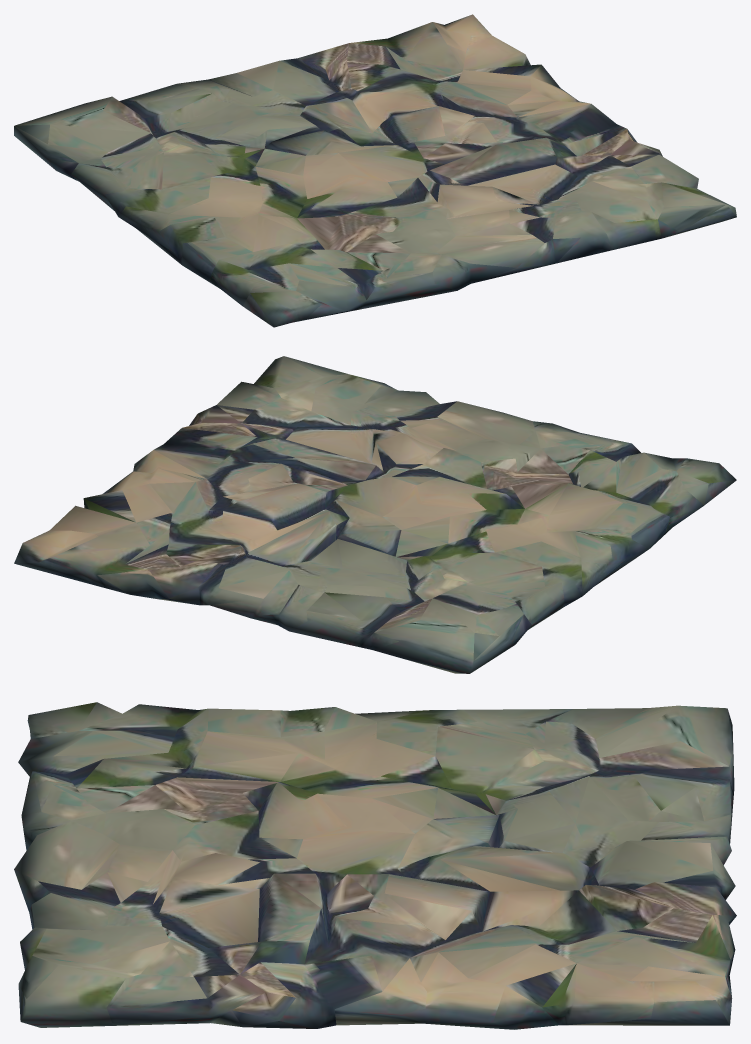
The model's file is slab.glb.
3 views of the same model, one above another, from view 1: azimuth 30°, elevation 25°; view 2: azimuth 150°, elevation 25°; view 3: azimuth 270°, elevation 25° (orthographic). The views are drawn at different scales.
Visible parts, largest first — view 1: SLAB; view 2: SLAB; view 3: SLAB.
Boxes of the visible parts, x1=… form: SLAB: x1=14, y1=14, x2=736, y2=327; SLAB: x1=14, y1=356, x2=736, y2=673; SLAB: x1=14, y1=702, x2=736, y2=1029.
Bounding box in the file's own units: 2.19 × 0.1385 × 2.2.
1 material, 1 textured.
